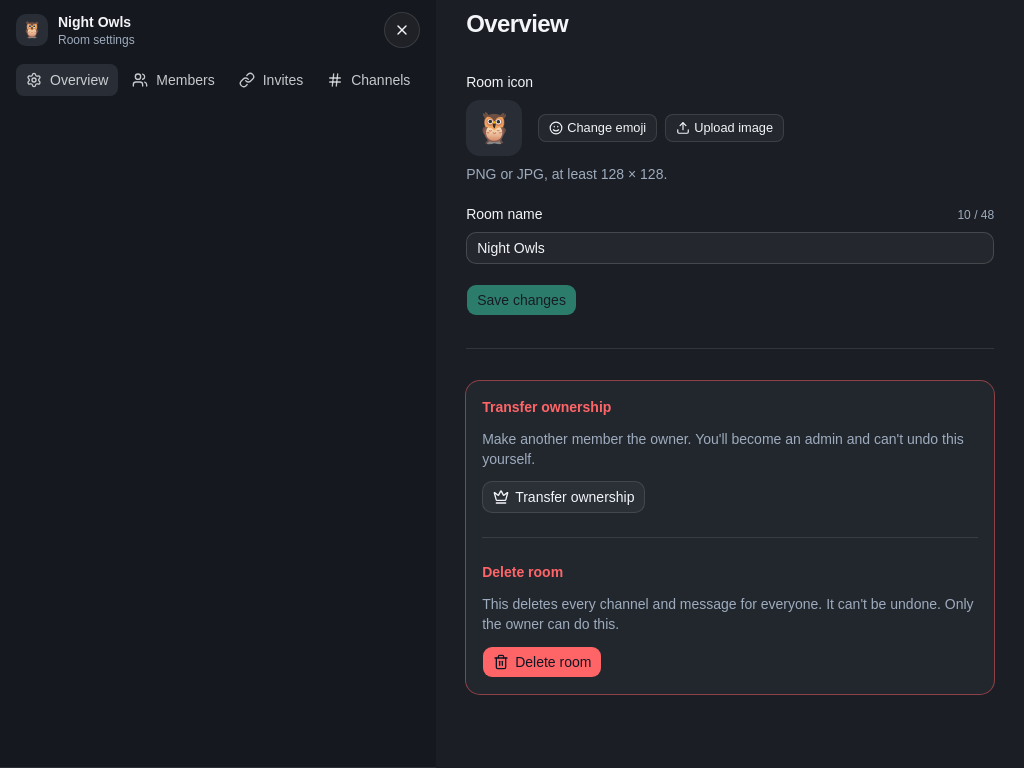
Overview › saves a valid change: toast, Save disabled again, new name kept
Replace the text in the field labelled "Room name" with "Owl Parliament" at (730, 248), box x1=466 y1=232 x2=994 y2=264
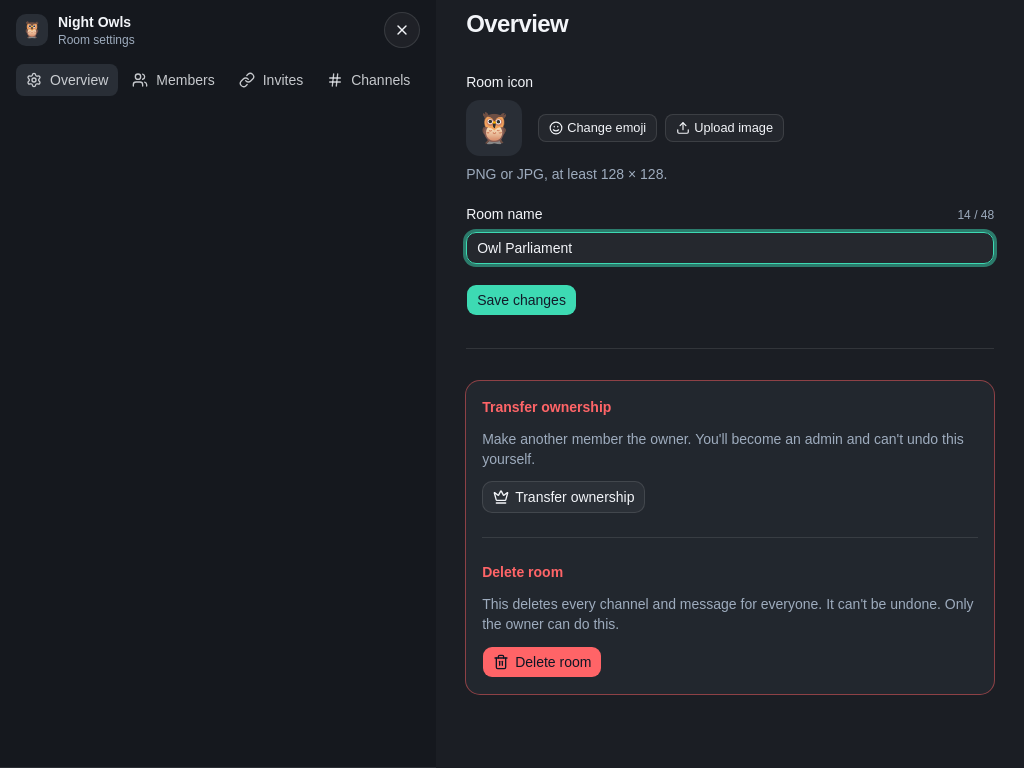
Click the button "Save changes" at (522, 300), box x1=466 y1=284 x2=577 y2=316
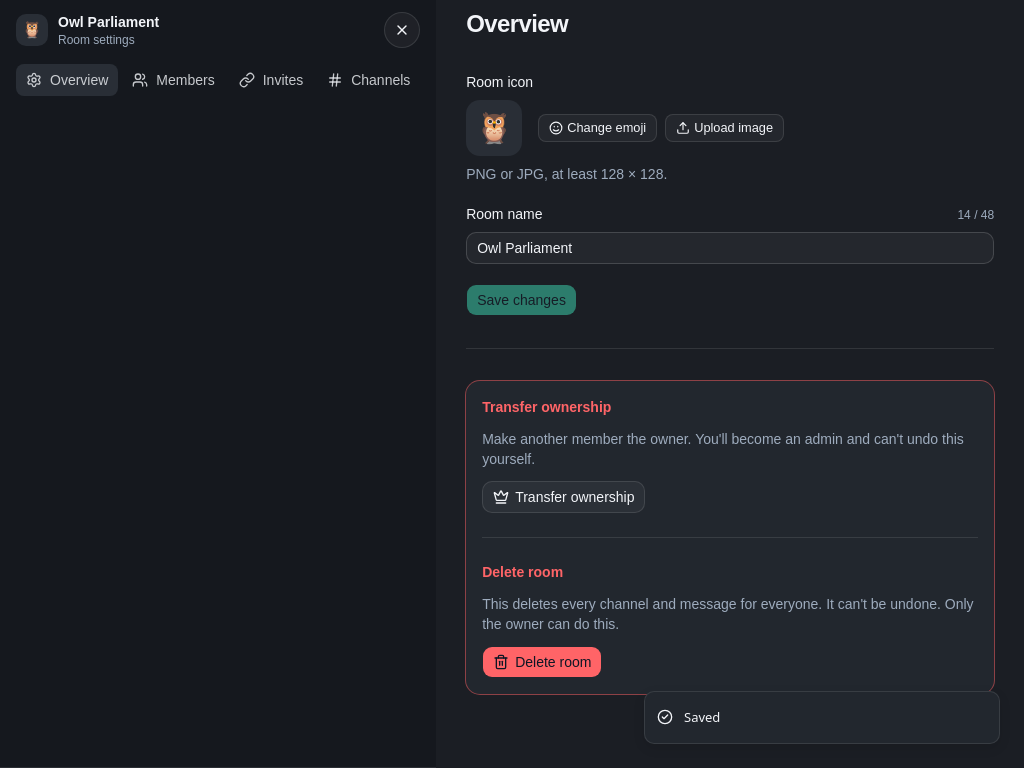
Now the text "Saved" is shown, box x1=684 y1=708 x2=720 y2=727
Now the button "Save changes" is disabled, box x1=466 y1=284 x2=577 y2=316
